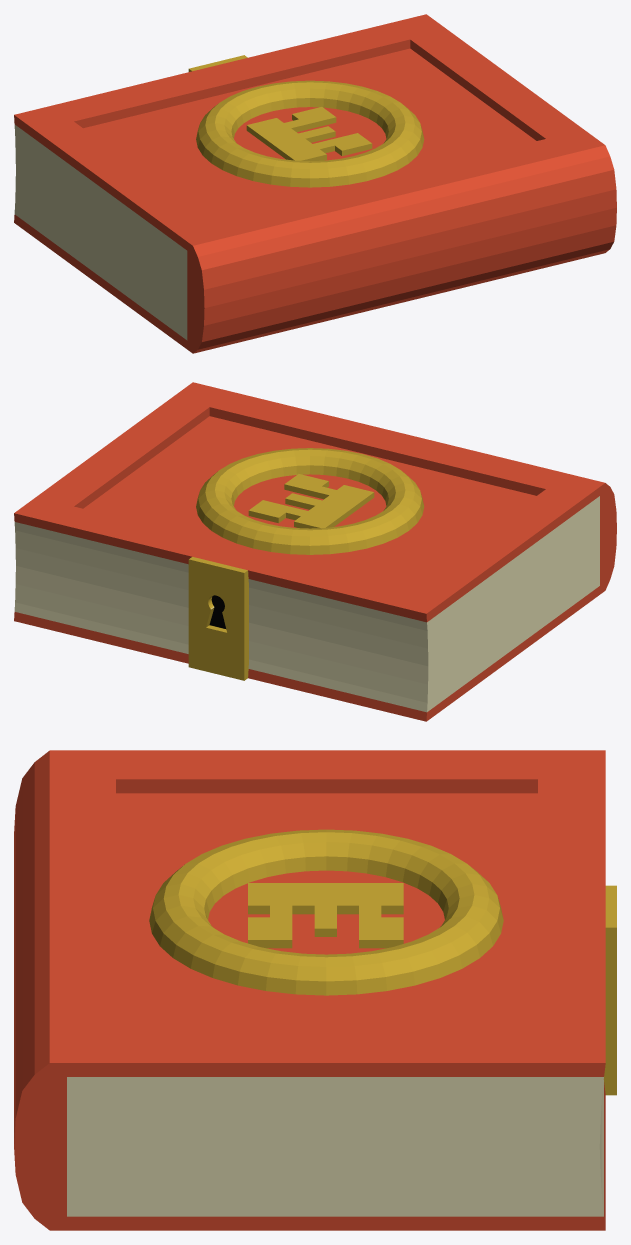
Rendered from Book.fbx.
3 renders of one model, top to bottom at view 1: azimuth 30°, elevation 25°; view 2: azimuth 150°, elevation 25°; view 3: azimuth 270°, elevation 25°, orthographic. The views are drawn at different scales.
Parts seen in each view (by area): view 1: Book; view 2: Book; view 3: Book.
Part boxes in pixels (box(x1,y1,x2,y2)): Book: box(14, 14, 616, 353); Book: box(14, 382, 616, 721); Book: box(14, 750, 616, 1230).
Size of the model in its own units: 50 by 13.39 by 40.76.
